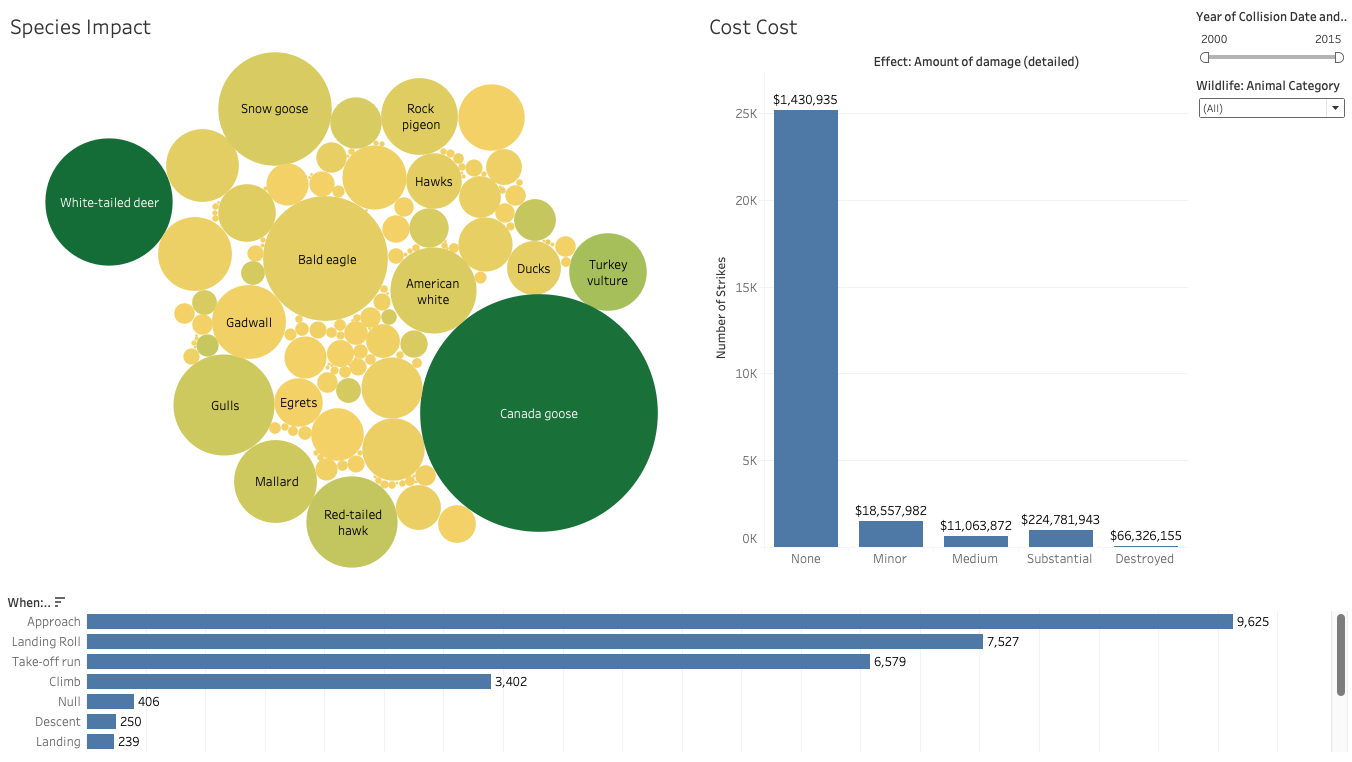

This screenshot's page, from the dashboard's own definition file:
{"tool":"tableau","page":{"name":"Dashboard 3","canvas":[1366,768],"ordinal":1},"visuals":[{"type":"worksheet","title":"Impact Downtime","mark":"Circle","box":[8,8,699,568]},{"type":"worksheet","title":"Impact Volume","mark":"Automatic","rows":[" Total $"],"cols":[" Amount of damage (detailed)"],"box":[707,8,491,568]},{"type":"filter","title":"Impact Downtime","param":"[federated.04nr8pr1fgrfe7118lz7j1k2yfn2].[tyr:Collision Date and Time:qk]","box":[1198,8,160,69]},{"type":"filter","title":"Impact Downtime","param":"[federated.04nr8pr1fgrfe7118lz7j1k2yfn2].[none:Wildlife: Animal Category:nk]","box":[1198,77,160,52]},{"type":"worksheet","title":"Phase","mark":"Automatic","rows":[" Phase of flight"],"cols":["Number of Strikes"],"box":[8,576,1350,184]}]}

Visuals, with their boxes in screenshot pixels (x1, y1, x2, y2), scaled from the page's 1366x768 canvas onto the 1352x762 screenshot:
"Impact Downtime" worksheet (Circle marks): l=8, t=8, r=700, b=572
"Impact Volume" worksheet: l=700, t=8, r=1186, b=572
"Impact Downtime" filter: l=1186, t=8, r=1344, b=76
"Impact Downtime" filter: l=1186, t=76, r=1344, b=128
"Phase" worksheet: l=8, t=572, r=1344, b=754
